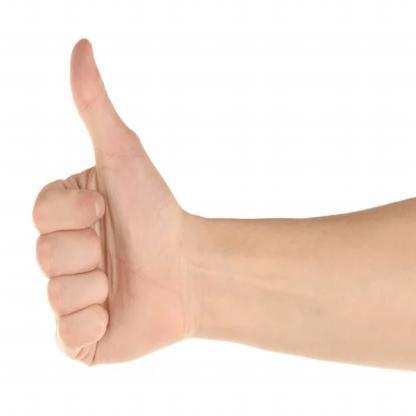thumb_up: (30, 34, 192, 368)
